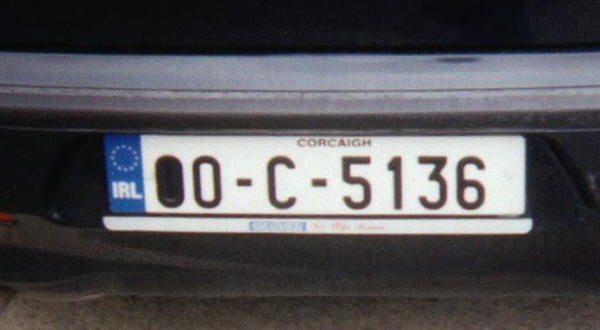license_plate: (101, 133, 529, 221)
